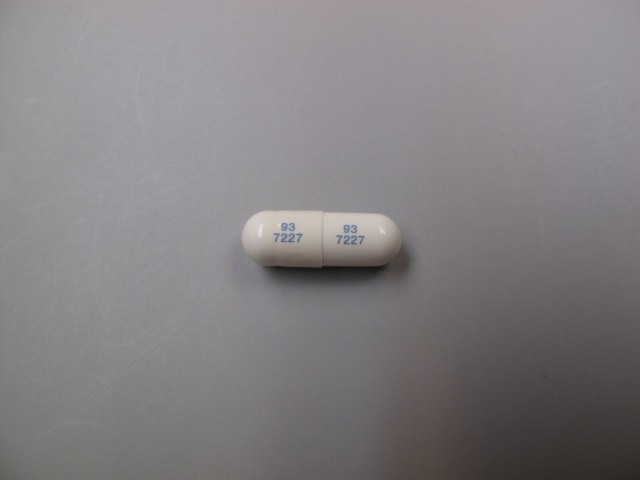capsule: (239, 205, 403, 267)
